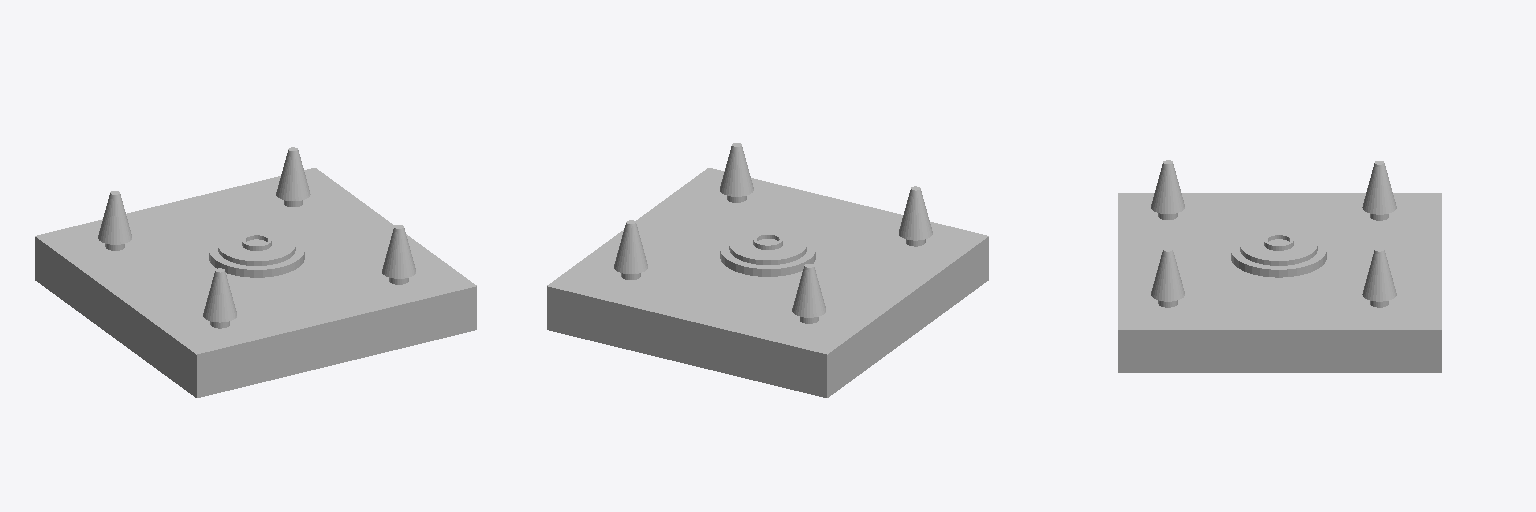
File: parque.obj
The picture shows the model from 3 angles: view 1: azimuth 30°, elevation 25°; view 2: azimuth 150°, elevation 25°; view 3: azimuth 270°, elevation 25°; orthographic projection.
Parts seen in each view (by area): view 1: Parque_Cube.010; view 2: Parque_Cube.010; view 3: Parque_Cube.010.
Part boxes in pixels (bbox=[...]): Parque_Cube.010: bbox=[35, 147, 476, 397]; Parque_Cube.010: bbox=[547, 143, 988, 397]; Parque_Cube.010: bbox=[1118, 160, 1441, 372].
Size of the model in its own units: 2 by 0.6661 by 2.